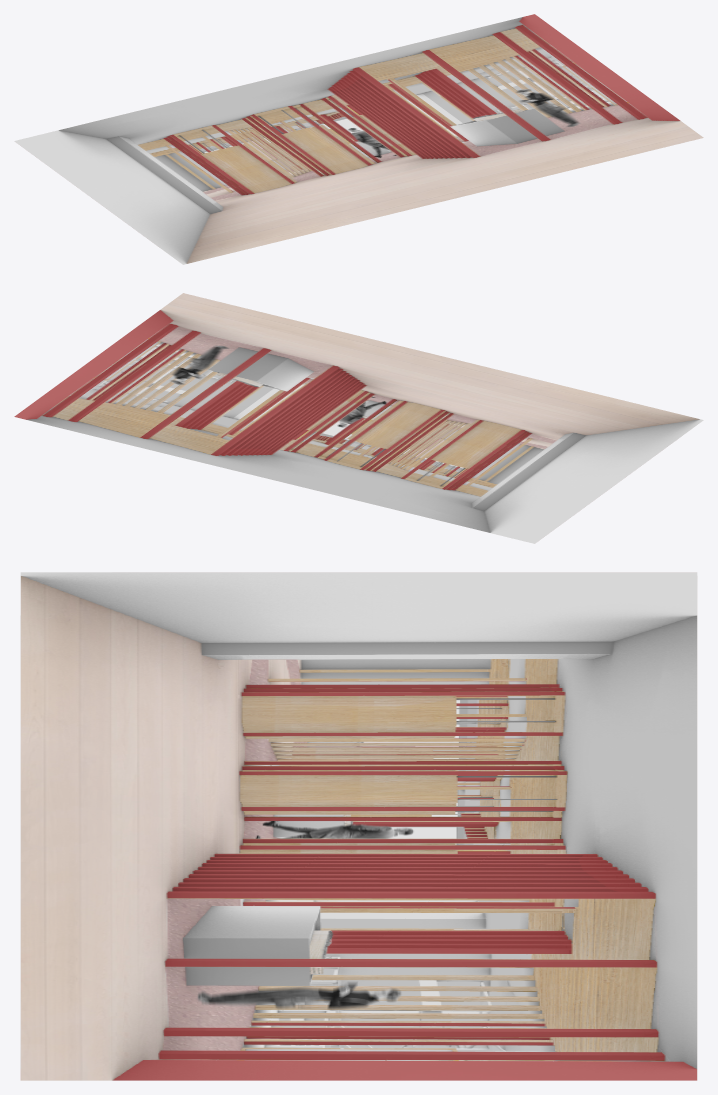
The model's file is FASE 3.obj.
The picture shows the model from 3 angles, top to bottom: view 1: azimuth 30°, elevation 25°; view 2: azimuth 150°, elevation 25°; view 3: azimuth 270°, elevation 25°; orthographic projection. The views are drawn at different scales.
Visible parts, largest first — view 1: Plane001; view 2: Plane001; view 3: Plane001.
Part boxes in pixels (left/top/right/bottom): Plane001: left=14, top=14, right=703, bottom=264; Plane001: left=14, top=293, right=703, bottom=543; Plane001: left=20, top=572, right=697, bottom=1080.
Size of the model in its own units: 26.67 by 0 by 15.
